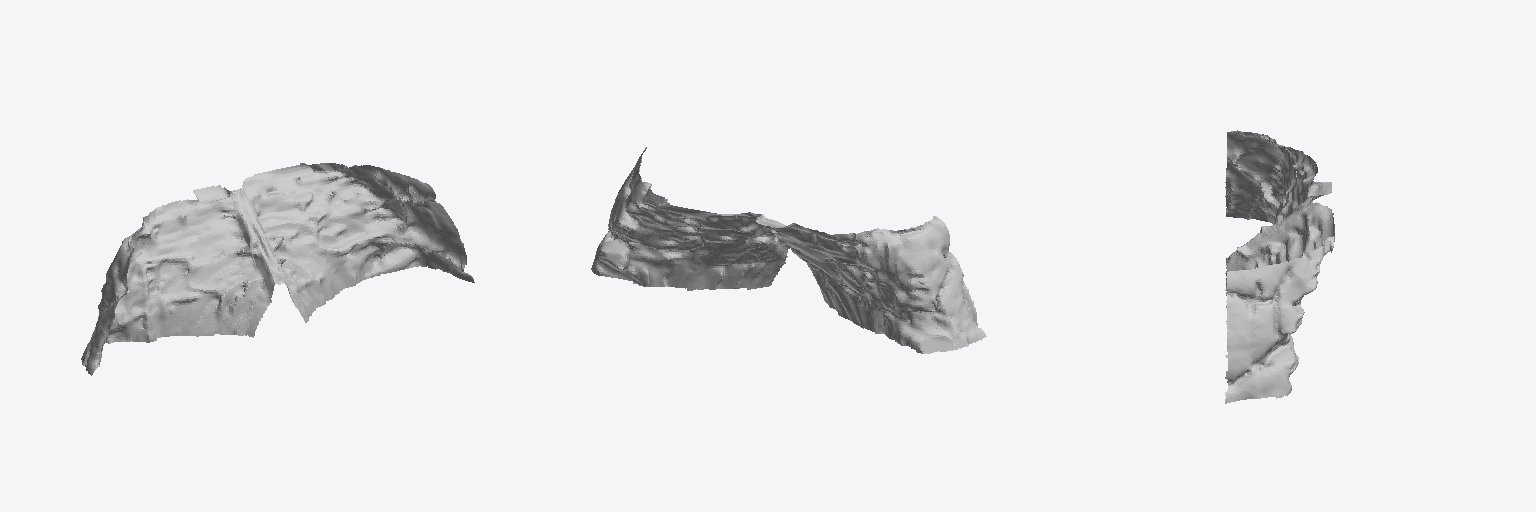
The model's file is cortex_4_3.obj.
The picture shows the model from 3 angles: view 1: azimuth 30°, elevation 25°; view 2: azimuth 150°, elevation 25°; view 3: azimuth 270°, elevation 25°; orthographic projection.
Parts seen in each view (by area): view 1: Cortex_3_3_Mehrdad_SagT1_Cortex_v1_No_Smooth_OBJ.000_Mehrda.000; view 2: Cortex_3_3_Mehrdad_SagT1_Cortex_v1_No_Smooth_OBJ.000_Mehrda.000; view 3: Cortex_3_3_Mehrdad_SagT1_Cortex_v1_No_Smooth_OBJ.000_Mehrda.000.
Part boxes in pixels (x1,y1,x2,y2): Cortex_3_3_Mehrdad_SagT1_Cortex_v1_No_Smooth_OBJ.000_Mehrda.000: (81,163,474,375); Cortex_3_3_Mehrdad_SagT1_Cortex_v1_No_Smooth_OBJ.000_Mehrda.000: (591,147,986,353); Cortex_3_3_Mehrdad_SagT1_Cortex_v1_No_Smooth_OBJ.000_Mehrda.000: (1225,130,1334,403).
Size of the model in its own units: 127 by 35.61 by 31.51.